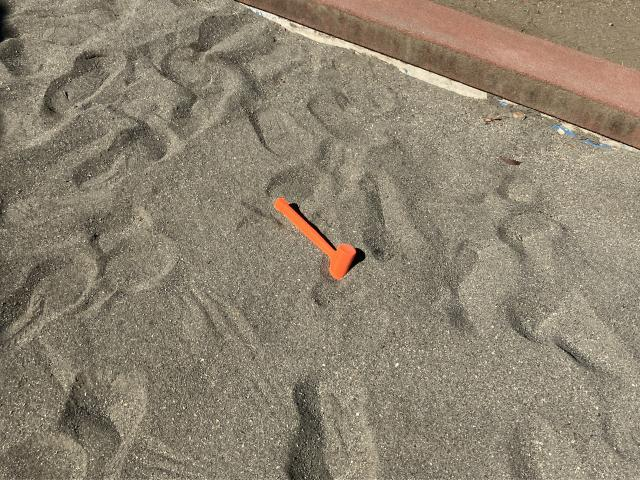hammer: (272, 196, 356, 279)
